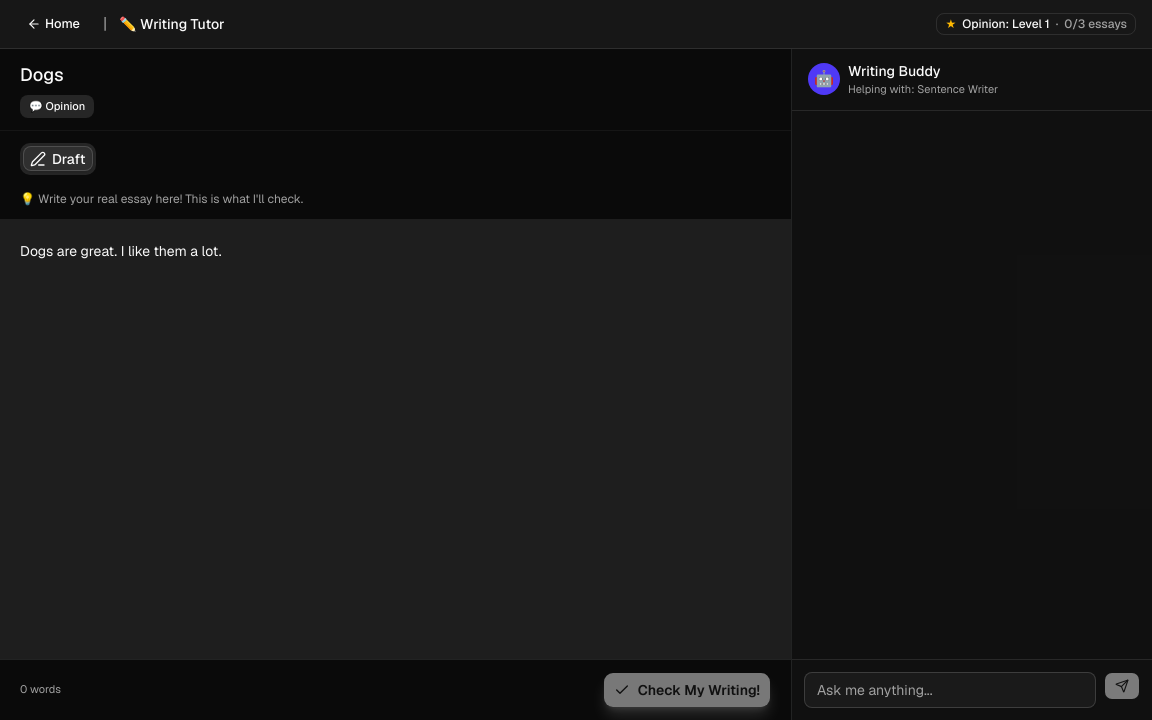
WritingScreen — level badge & tab switching › clicking the level badge opens the LevelInfoDialog
Click the text "★ Opinion: Level 1 · 0/3 essays" at (1036, 24), box [936,13,1136,35]
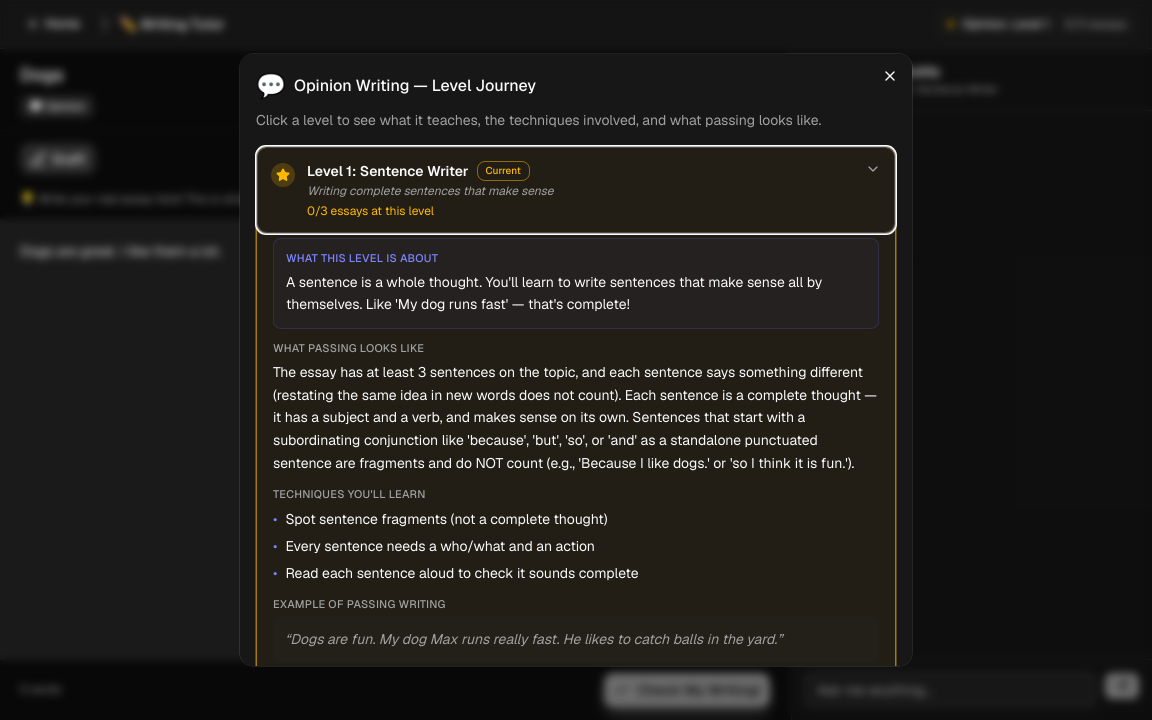
Now the text "Opinion Writing — Level Journey" is shown, box [294,78,536,94]
